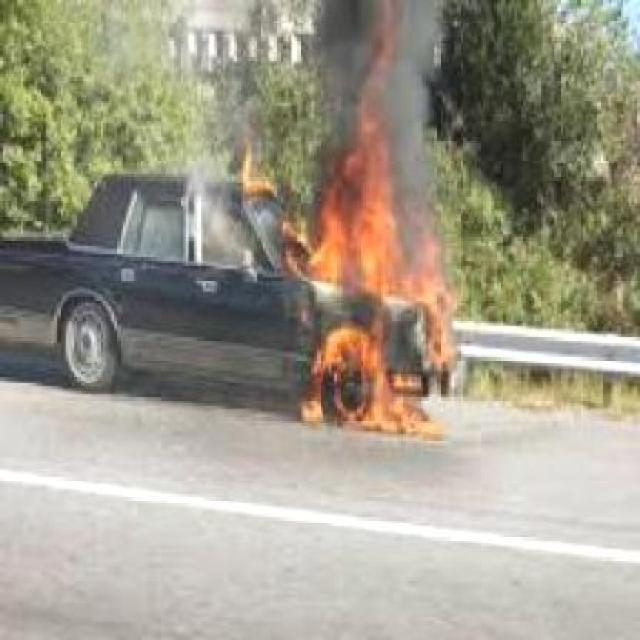Fire: (286, 91, 454, 440), (238, 146, 278, 197)
Smoke: (308, 0, 446, 90)
